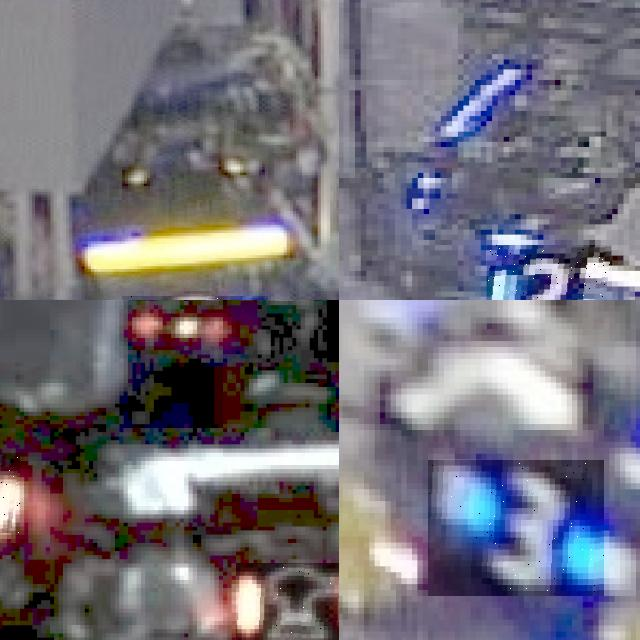B2: (486, 245, 612, 300)
B3: (428, 460, 604, 596)
Rs: (236, 563, 339, 640), (0, 453, 20, 535)
